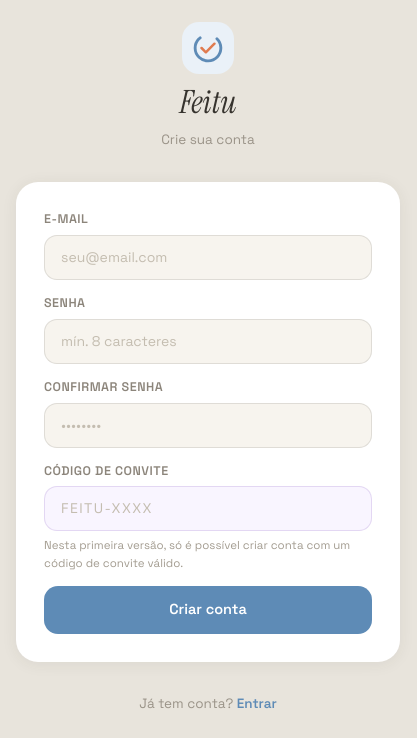
RegisterPage › exibe erro se senhas diferentes
Type "a@test.com" into the field with placeholder "seu@email.com" at (208, 258), box [44,235,372,280]
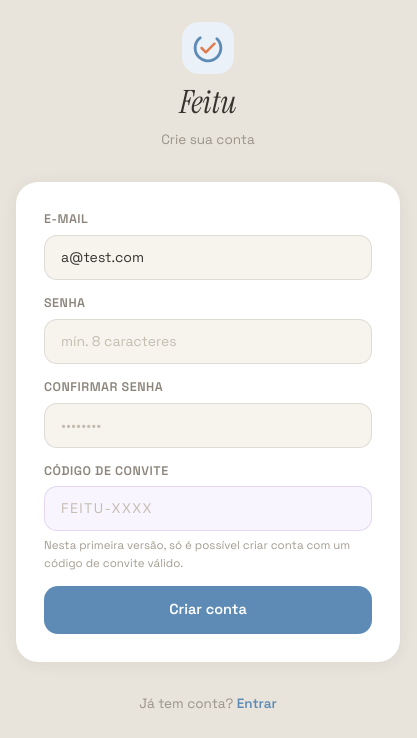
Type "senha1234" into the password field with placeholder "mín. 8 caracteres" at (208, 341), box [44,319,372,364]
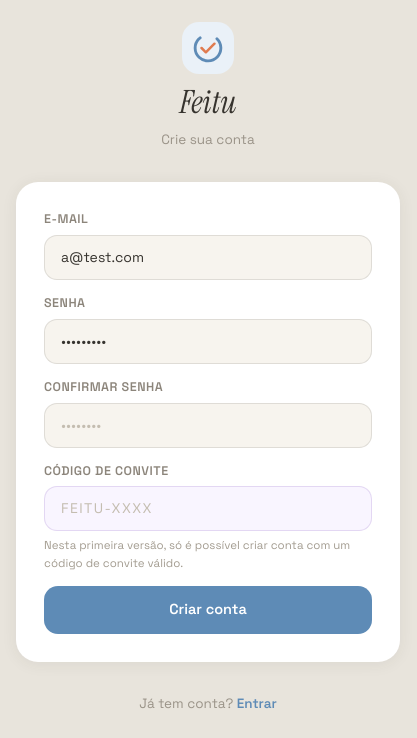
Type "outrasenha" into the password field with placeholder "••••••••" at (208, 425), box [44,403,372,448]
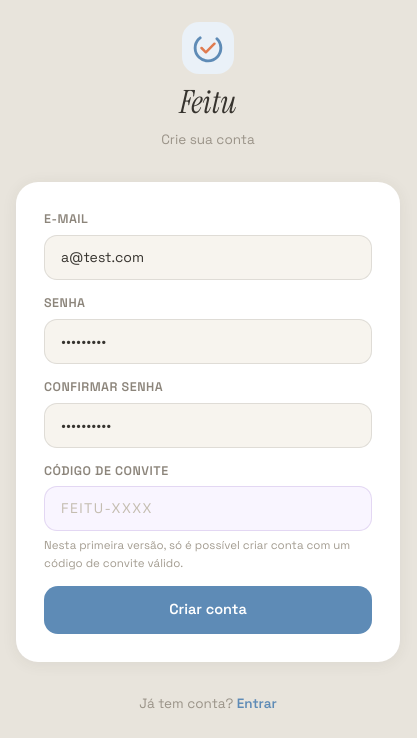
Submit the form, box [44,210,372,634]
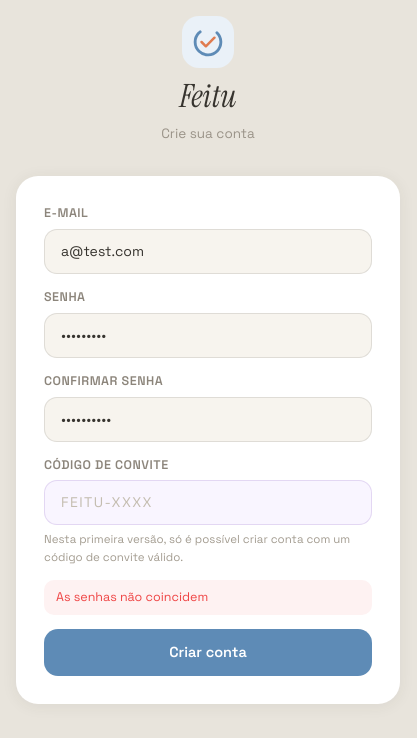
Check: the text "não coincidem" is shown, box [56,589,208,605]
